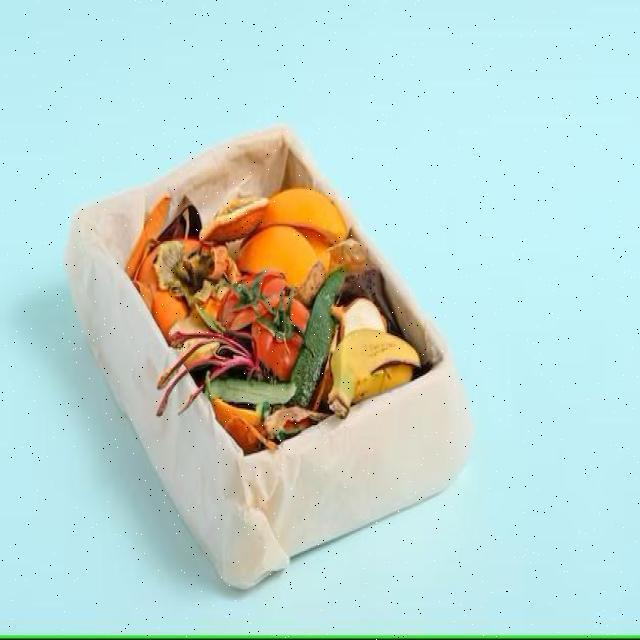Garbage: (85, 126, 447, 457)
